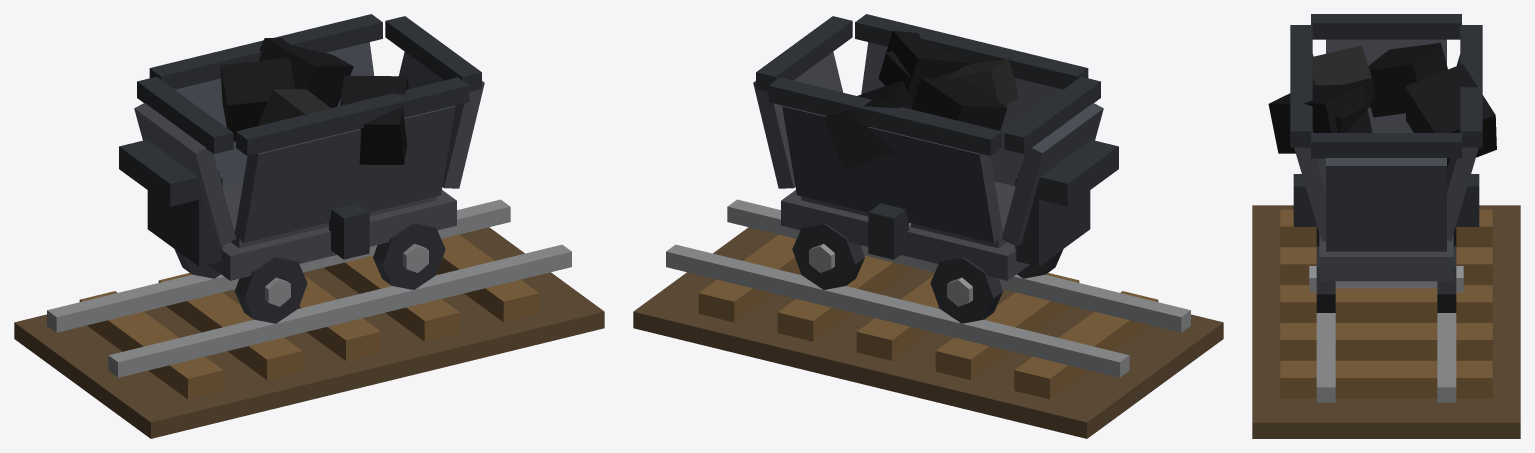
File: ore_cart.glb
3 renders of one model, left to right at view 1: azimuth 30°, elevation 25°; view 2: azimuth 150°, elevation 25°; view 3: azimuth 270°, elevation 25°, orthographic.
Parts seen in each view (by area): view 1: Cube, Cube.010, Cube.006, Cube.007, Cube.014, Cube.008, Cube.016, Cube.001, Cube.012, Cube.002, Cube.023, Cube.024 (+17 smaller); view 2: Cube, Cube.011, Cube.007, Cube.006, Cube.016, Cube.008, Cube.014, Cube.001, Cube.012, Cube.002, Cube.020, Cube.004 (+17 smaller); view 3: Cube, Cube.013, Cube.004, Cube.005, Cube.003, Cube.008, Cube.026, Cube.015, Cube.017, Cube.024, Cube.023, Cube.014 (+15 smaller).
Boxes of the visible parts, bbox=[...] form: Cube: bbox=[14, 227, 604, 438]; Cube.010: bbox=[235, 105, 455, 243]; Cube.006: bbox=[108, 244, 571, 377]; Cube.007: bbox=[47, 199, 510, 332]; Cube.014: bbox=[236, 77, 469, 156]; Cube.008: bbox=[208, 190, 456, 280]; Cube.016: bbox=[149, 14, 382, 89]; Cube.001: bbox=[79, 291, 223, 399]; Cube.012: bbox=[134, 103, 236, 246]; Cube.002: bbox=[158, 273, 302, 379]; Cube.023: bbox=[339, 75, 408, 164]; Cube.024: bbox=[220, 58, 294, 141]; Cube: bbox=[633, 227, 1223, 438]; Cube.011: bbox=[782, 105, 1002, 243]; Cube.007: bbox=[666, 244, 1129, 377]; Cube.006: bbox=[727, 199, 1190, 332]; Cube.016: bbox=[768, 77, 1001, 156]; Cube.008: bbox=[781, 190, 1029, 280]; Cube.014: bbox=[855, 14, 1088, 89]; Cube.001: bbox=[1014, 291, 1158, 399]; Cube.012: bbox=[1001, 103, 1103, 246]; Cube.002: bbox=[935, 273, 1079, 379]; Cube.020: bbox=[1015, 176, 1090, 266]; Cube.004: bbox=[777, 255, 913, 341]; Cube: bbox=[1252, 205, 1520, 438]; Cube.013: bbox=[1326, 158, 1446, 251]; Cube.004: bbox=[1280, 323, 1492, 360]; Cube.005: bbox=[1280, 361, 1492, 398]; Cube.003: bbox=[1280, 285, 1492, 322]; Cube.008: bbox=[1319, 234, 1453, 281]; Cube.026: bbox=[1405, 64, 1496, 167]; Cube.015: bbox=[1311, 14, 1461, 39]; Cube.017: bbox=[1311, 133, 1461, 158]; Cube.024: bbox=[1368, 43, 1447, 117]; Cube.023: bbox=[1268, 85, 1372, 153]; Cube.014: bbox=[1290, 25, 1312, 147].
Size of the model in its own units: 46 by 26.01 by 24.
